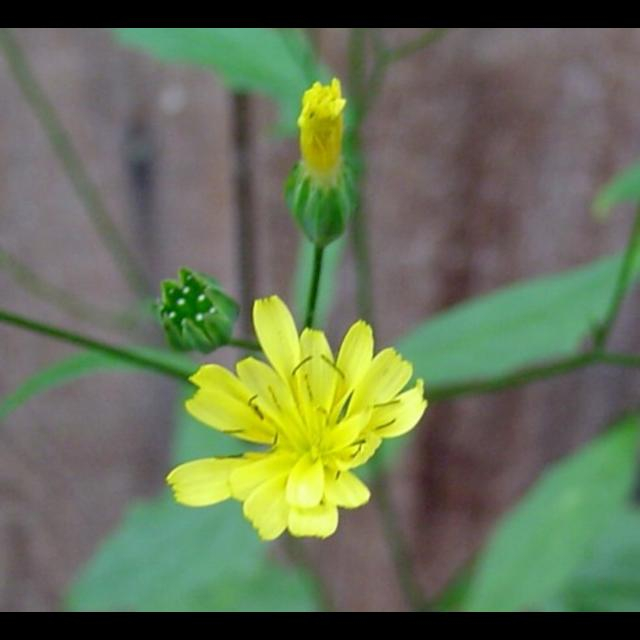Flower: (167, 301, 426, 555), (294, 78, 352, 188)
